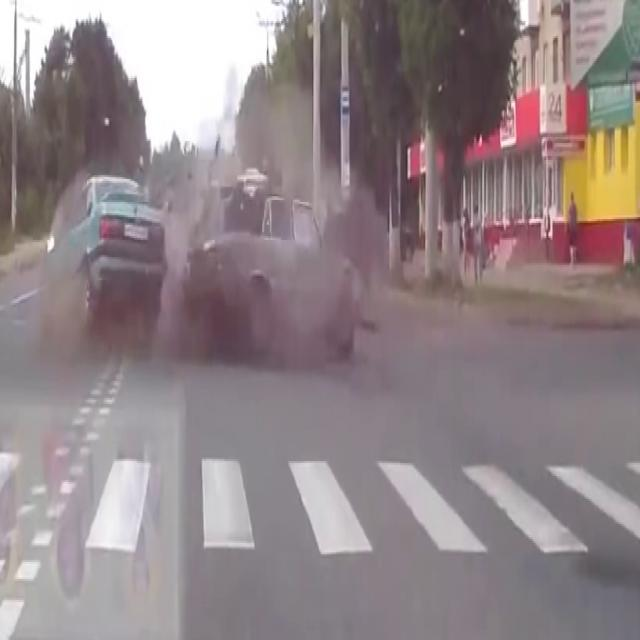accident: (32, 152, 370, 356)
